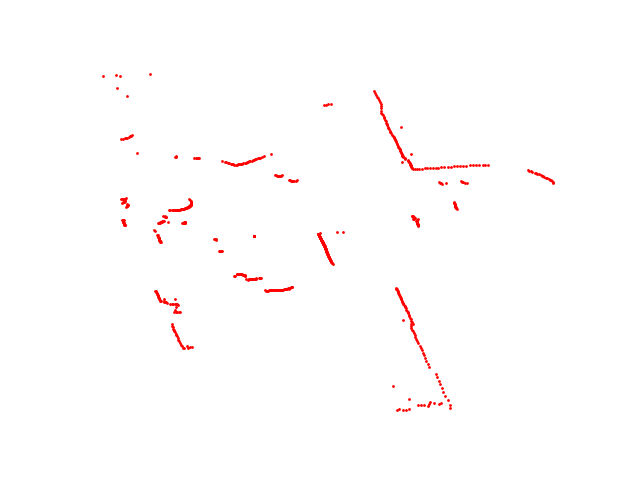person: (272, 172, 302, 186), (436, 177, 471, 188)
